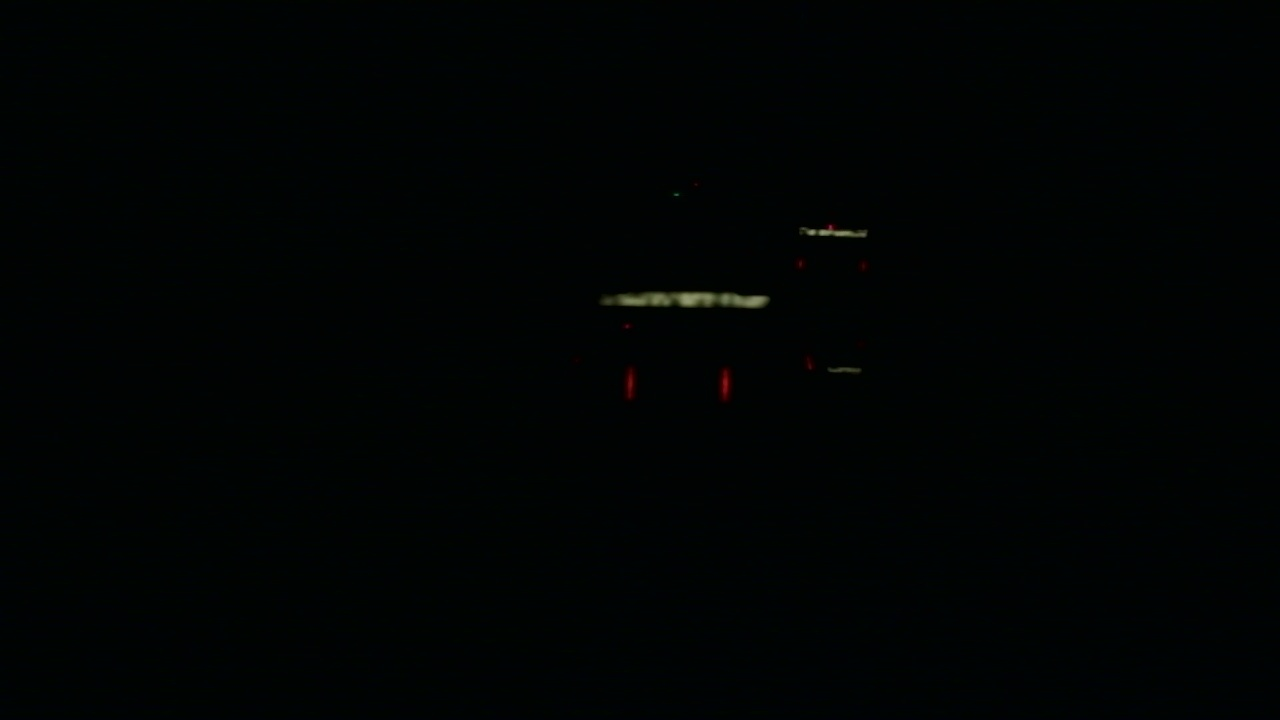lamp: (718, 363, 732, 402), (621, 366, 636, 401), (798, 257, 803, 273)
pair1: (621, 367, 730, 403)
pair2: (797, 259, 867, 273)
